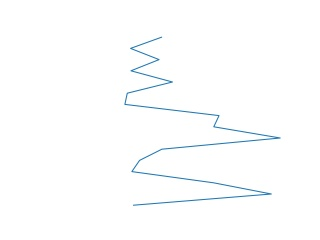majorRiverBedLagDeposit: (120, 36, 283, 207)
